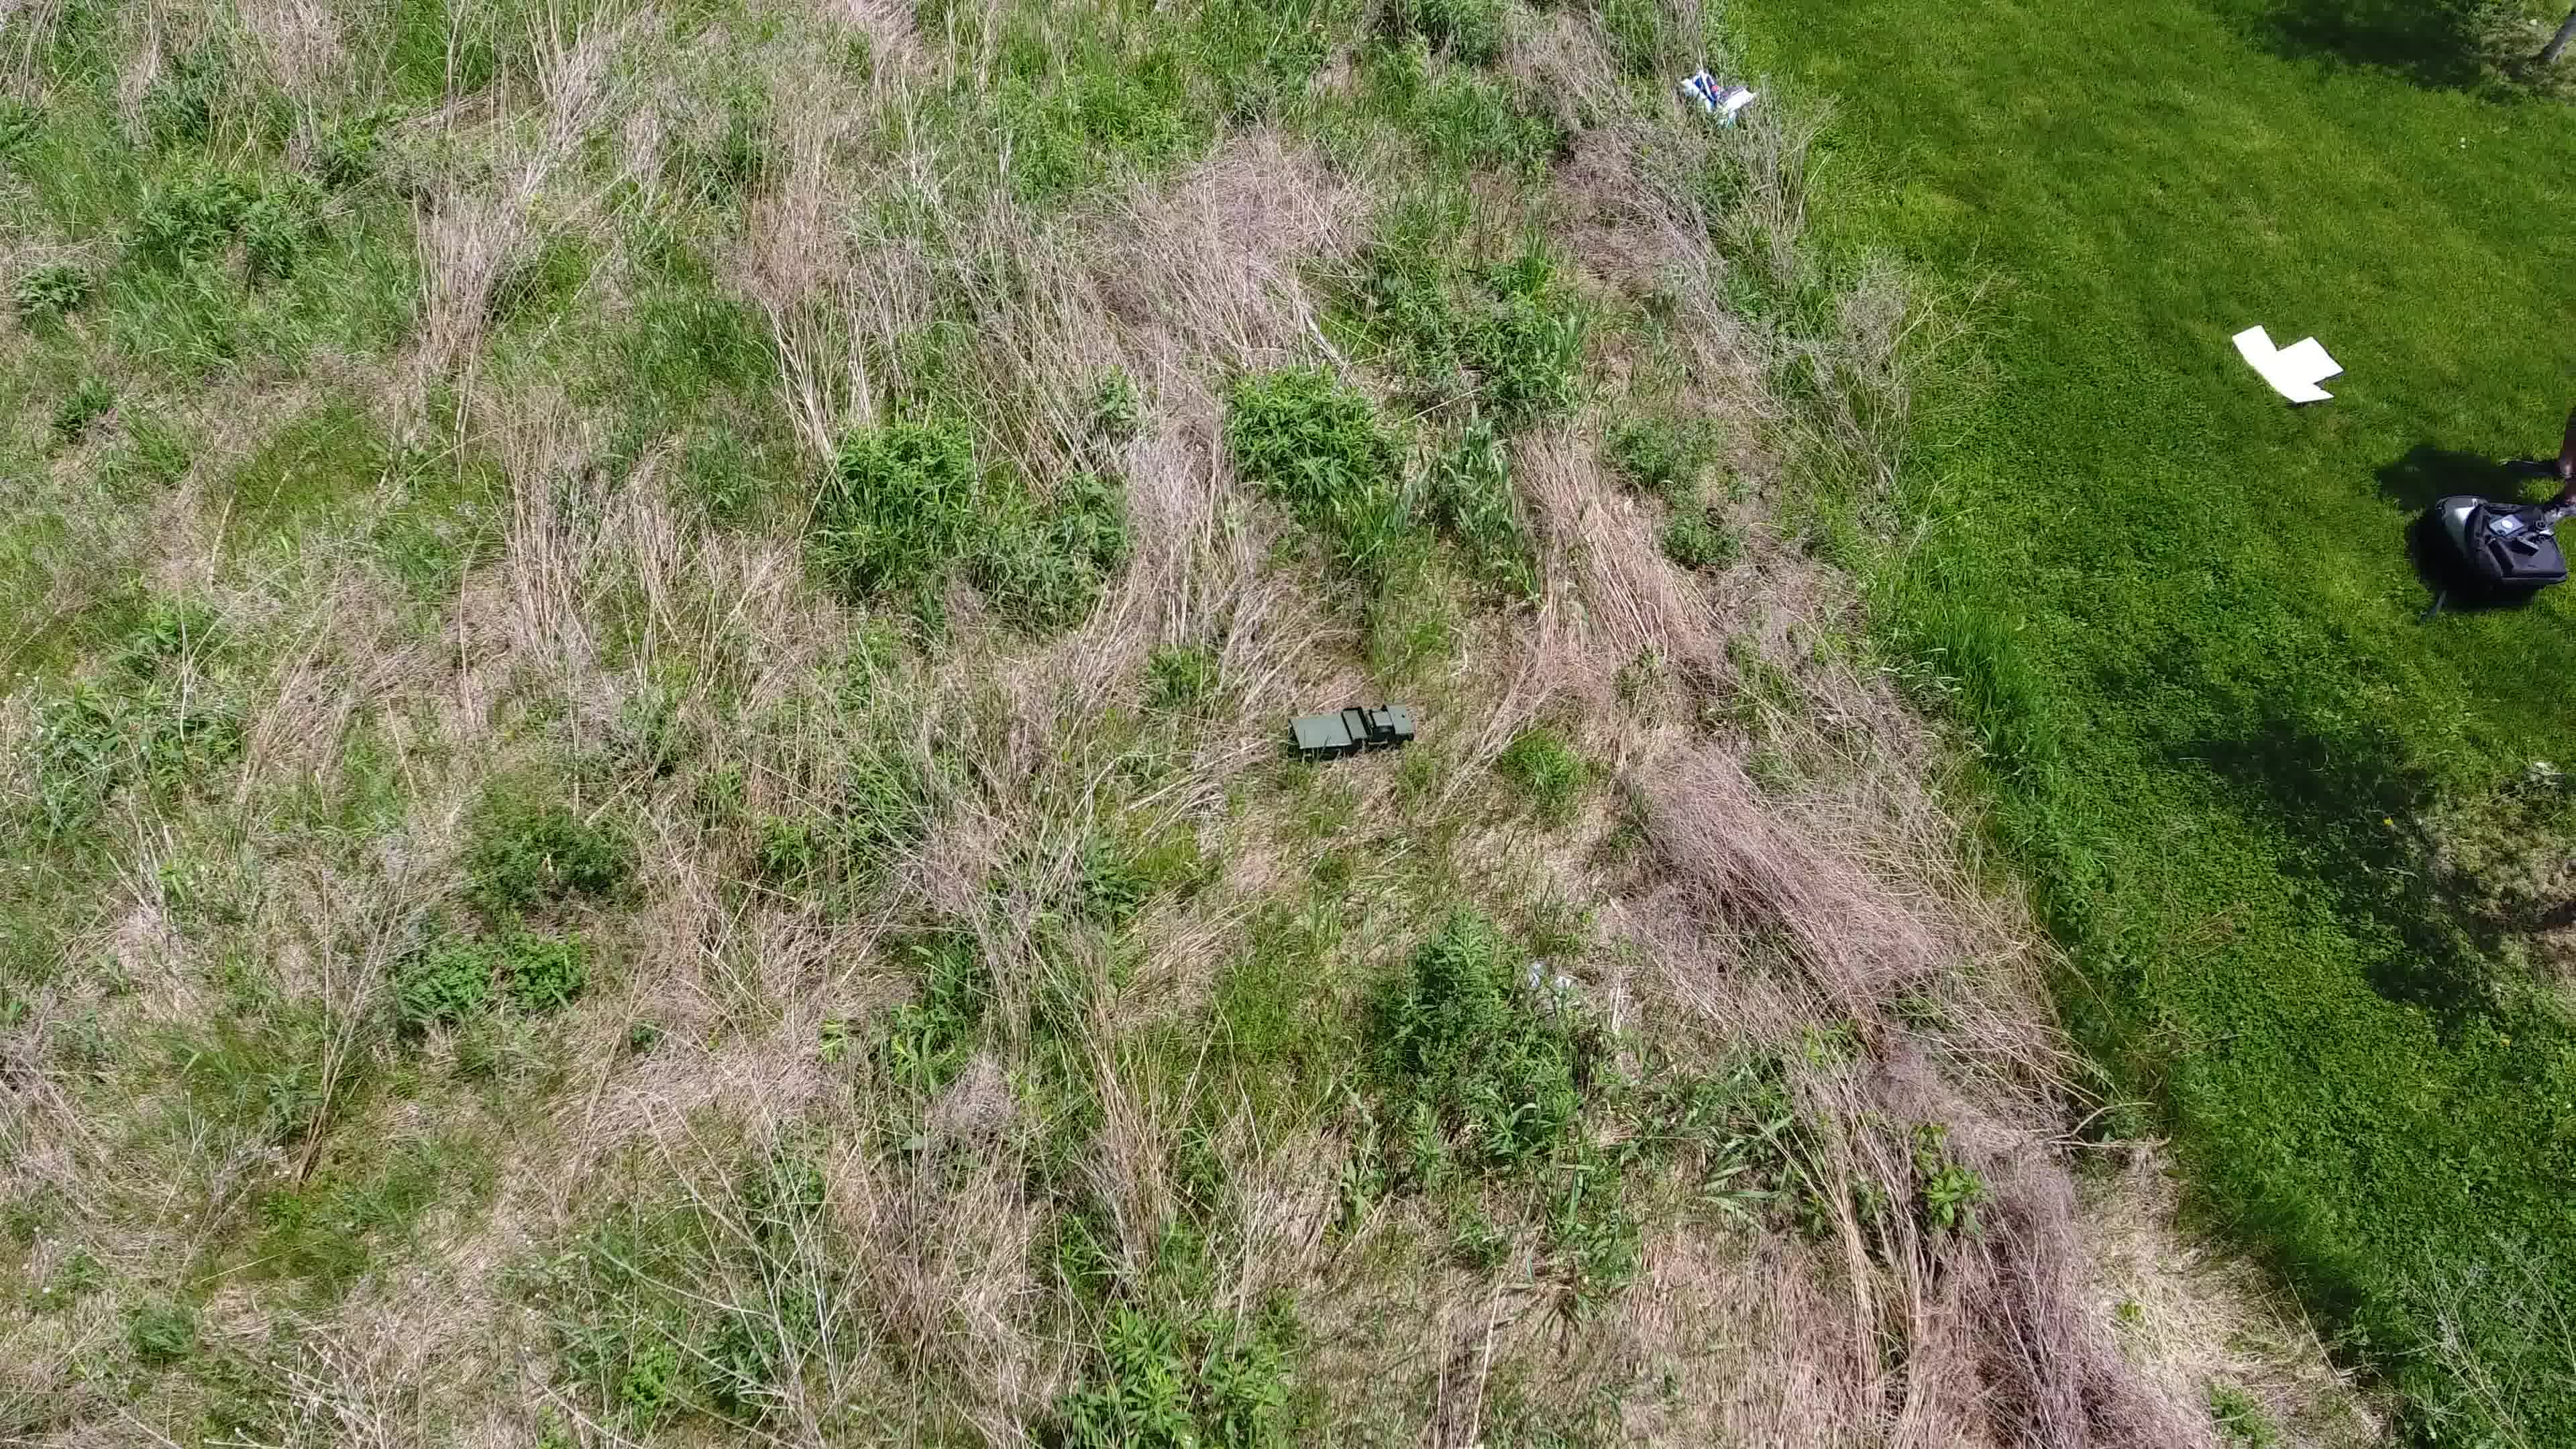transporter9: (1284, 699, 1417, 761)
